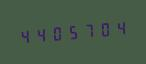five: (65, 20, 80, 43)
four: (17, 24, 32, 47), (33, 23, 48, 46), (113, 16, 128, 39)
seven: (81, 19, 96, 41)
zero: (97, 17, 112, 40), (49, 22, 64, 44)
